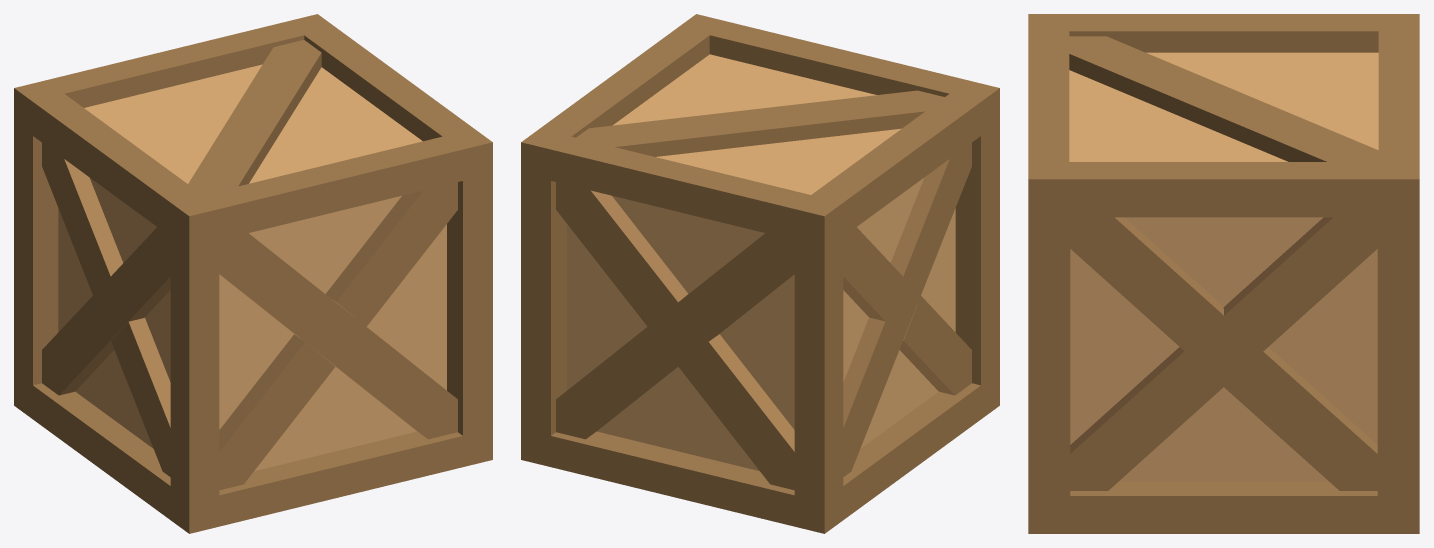
File: WoodenCrateV1.2.fbx
The picture shows the model from 3 angles, left to right: view 1: azimuth 30°, elevation 25°; view 2: azimuth 150°, elevation 25°; view 3: azimuth 270°, elevation 25°; orthographic projection. The views are drawn at different scales.
Parts seen in each view (by area): view 1: Crate1.2; view 2: Crate1.2; view 3: Crate1.2.
Part boxes in pixels (bbox=[...]): Crate1.2: bbox=[14, 14, 492, 533]; Crate1.2: bbox=[521, 14, 999, 533]; Crate1.2: bbox=[1028, 14, 1419, 533].
Size of the model in its own units: 262 by 262 by 262.
